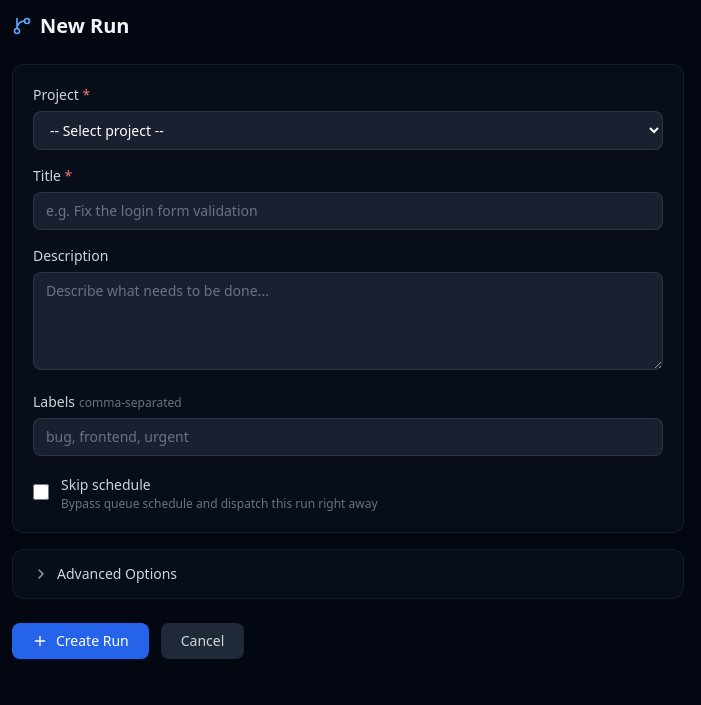
NewRun › auto-fills title and description when issue is selected
Select project
Step 1. Select "my-project (org/repo)" in the dropdown → (348, 130), box [33, 111, 663, 150]
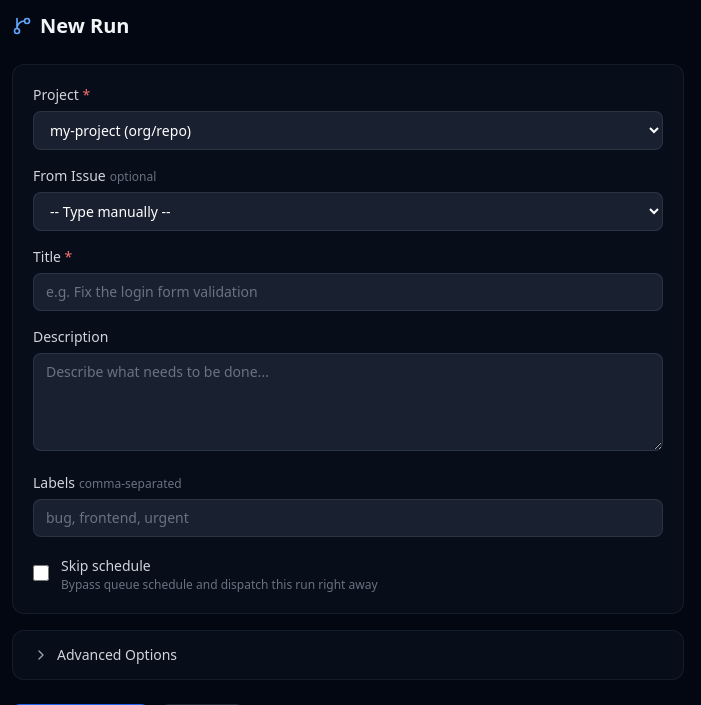
Select the issue from the picker
Step 2. Select "#7: Add dark mode" in the dropdown showing "-- Type manually --" below "From Issue" → (348, 212), box [33, 192, 663, 231]
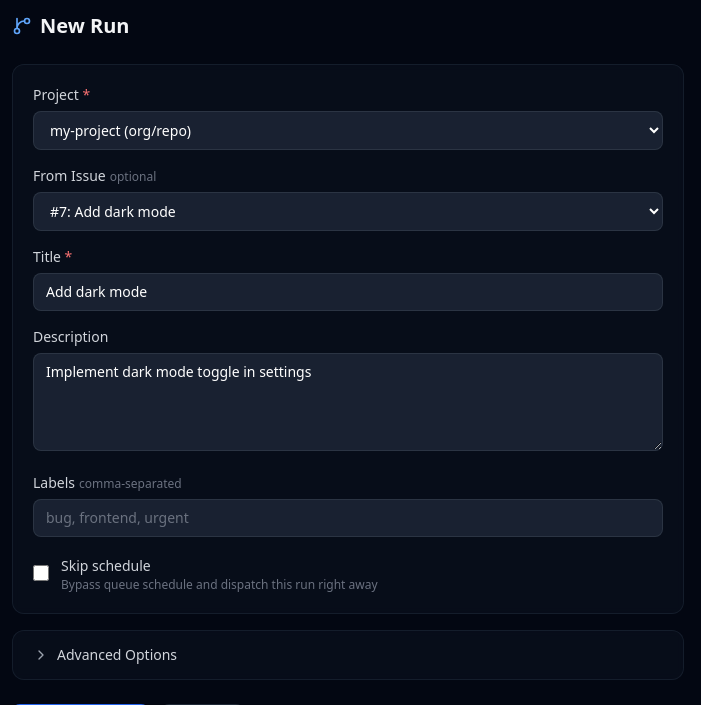
expect the field with placeholder "e.g. Fix the login form validation" holds "Add dark mode": met, box [33, 273, 663, 311]
expect the text box with placeholder "Describe what needs to be done..." holds "Implement dark mode toggle in settings": met, box [33, 353, 663, 451]
